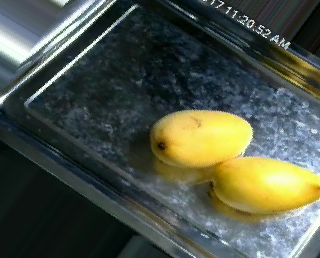Mango: (211, 156, 320, 213), (148, 109, 255, 164)
